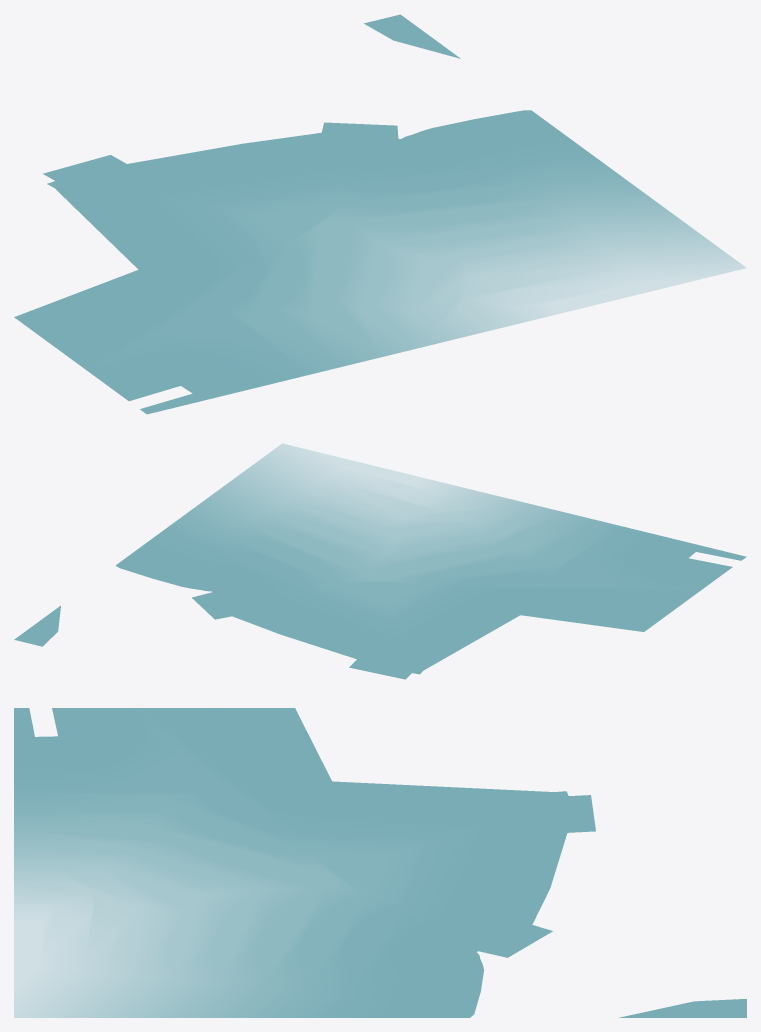
3 renders of one model, top to bottom at view 1: azimuth 30°, elevation 25°; view 2: azimuth 150°, elevation 25°; view 3: azimuth 270°, elevation 25°, orthographic. The views are drawn at different scales.
Visible parts, largest first — view 1: city; view 2: city; view 3: city.
Part boxes in pixels (x1,y1,x2,y2): city: [14, 14, 745, 414]; city: [14, 443, 746, 679]; city: [14, 708, 746, 1017].
Size of the model in its own units: 500 by 0 by 500.
